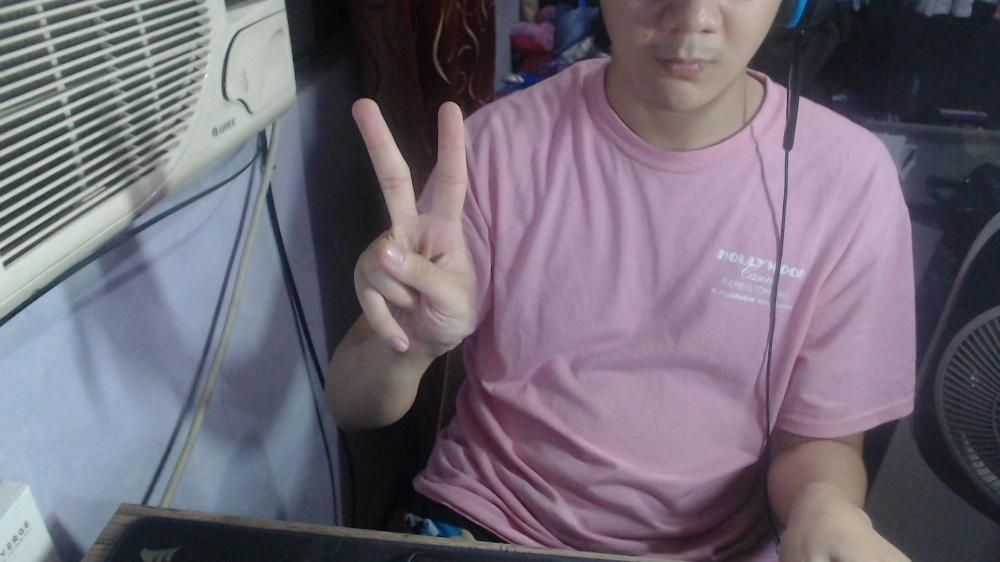v: (349, 98, 478, 358)
